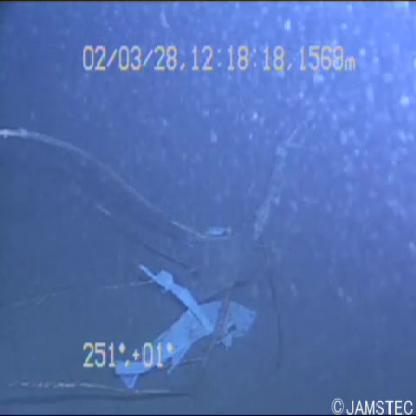Rác: (108, 228, 255, 402)
